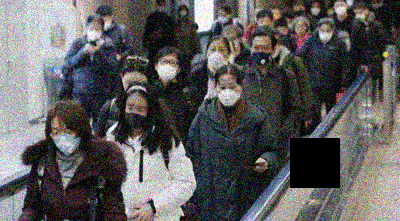with_mask: (50, 125, 82, 156), (123, 102, 148, 130), (216, 81, 241, 108), (250, 43, 273, 67), (157, 57, 179, 82), (207, 44, 228, 68), (87, 26, 103, 41), (318, 27, 332, 44), (334, 3, 348, 16), (102, 17, 112, 31), (217, 13, 229, 24), (310, 5, 321, 17), (354, 10, 367, 20), (180, 7, 187, 17), (157, 4, 165, 12)
without_mask: (294, 22, 306, 35)
